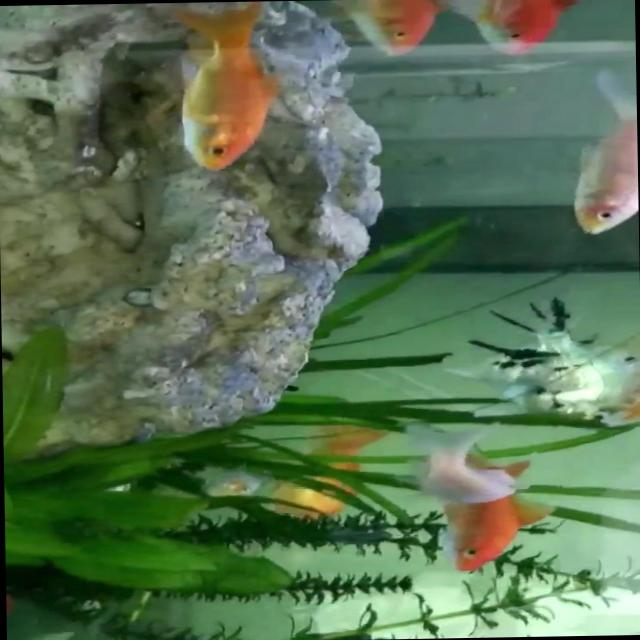GoldFish: (156, 1, 294, 184), (432, 452, 561, 583)
